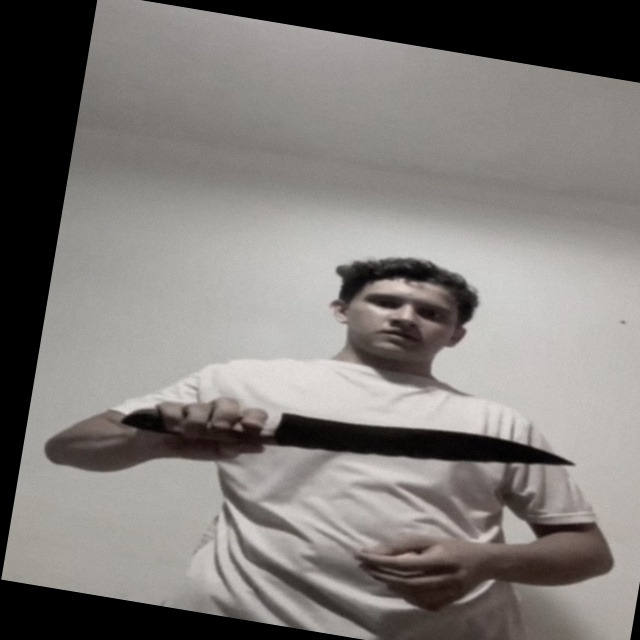Sharp-Object: (271, 400, 582, 499)
